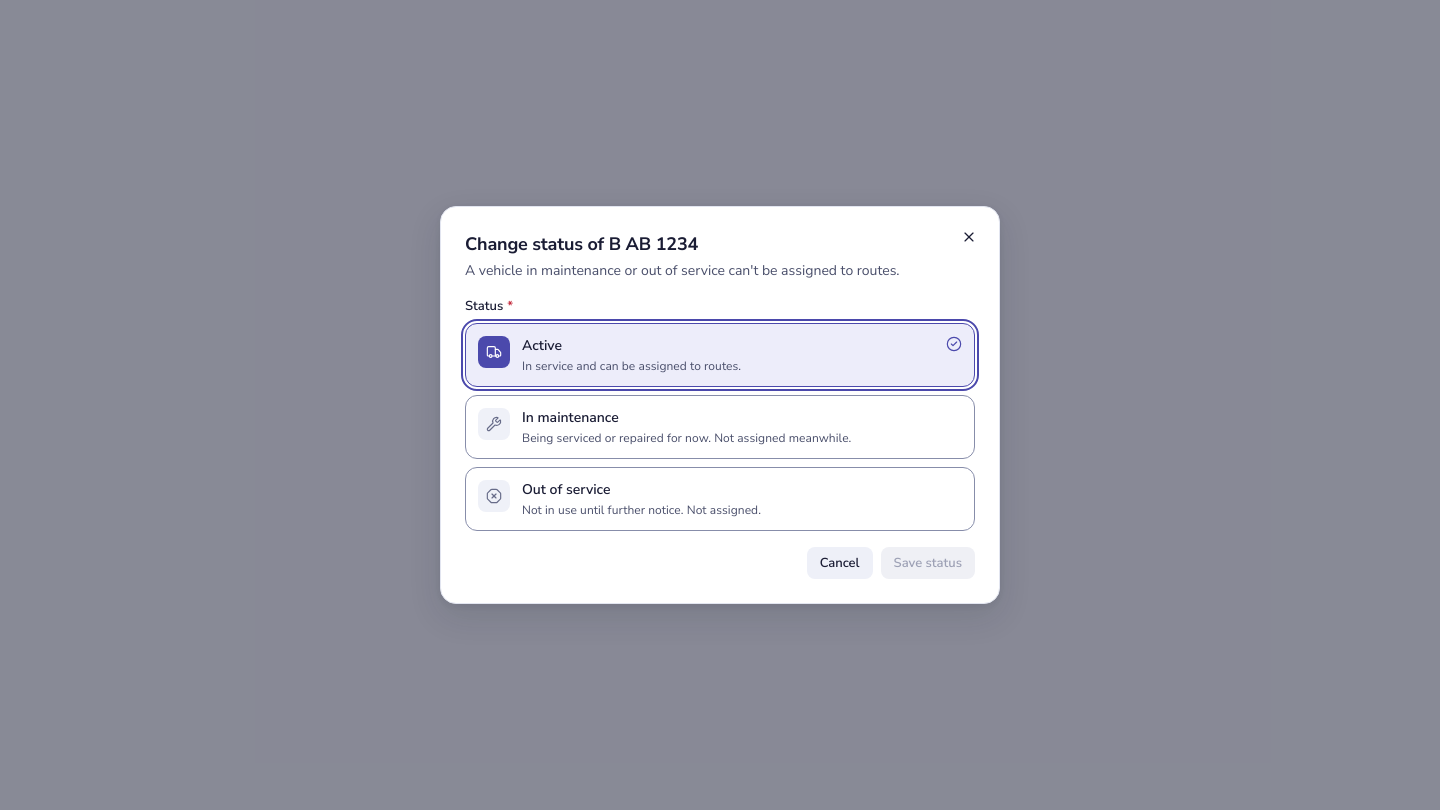
Test: VehicleStatusDialog › refuses out_of_service without a reason, and sends nothing
Click the radio button labelled "Out of service" at (720, 499), box x1=465 y1=467 x2=975 y2=531
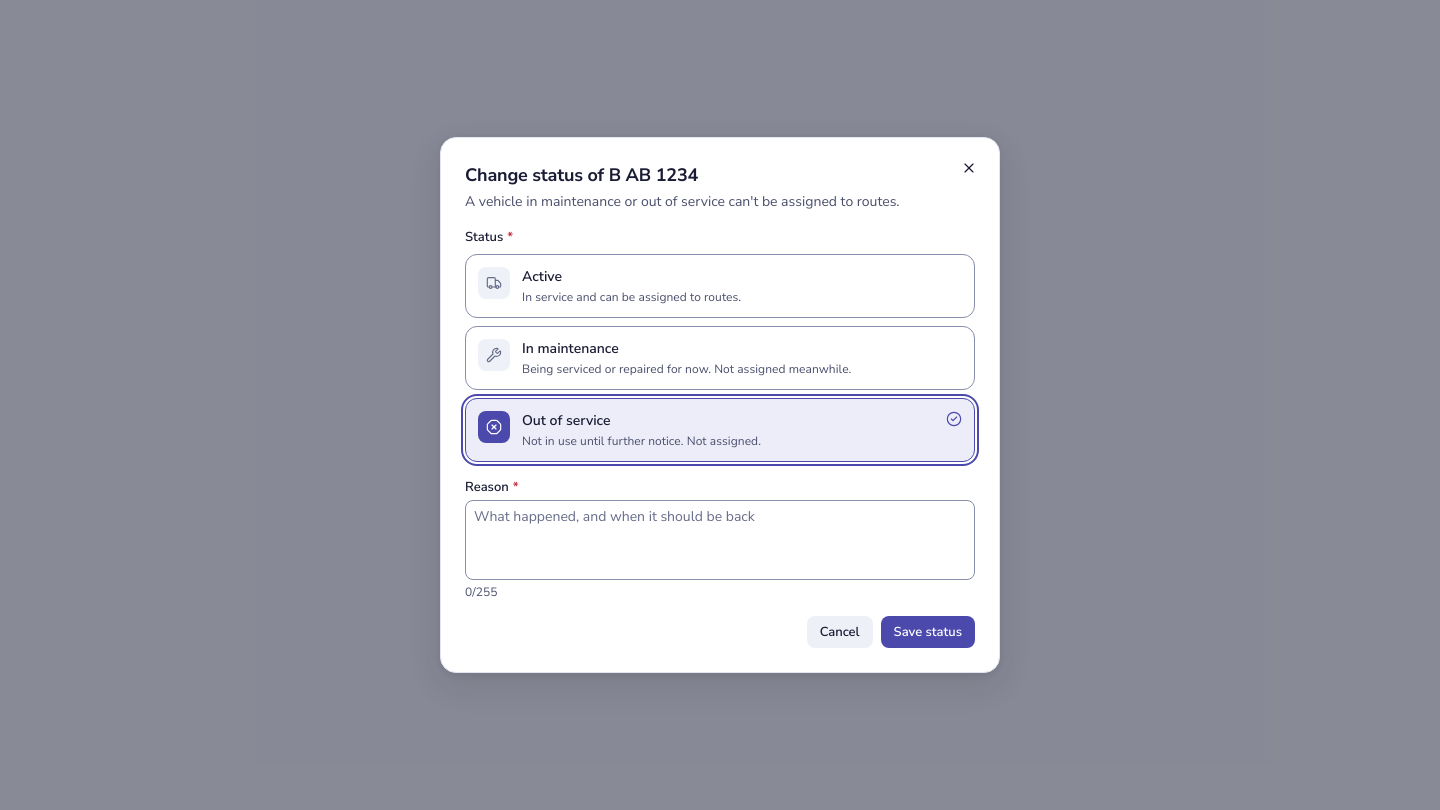
Click the button "Save status" at (928, 632), box x1=881 y1=616 x2=975 y2=648
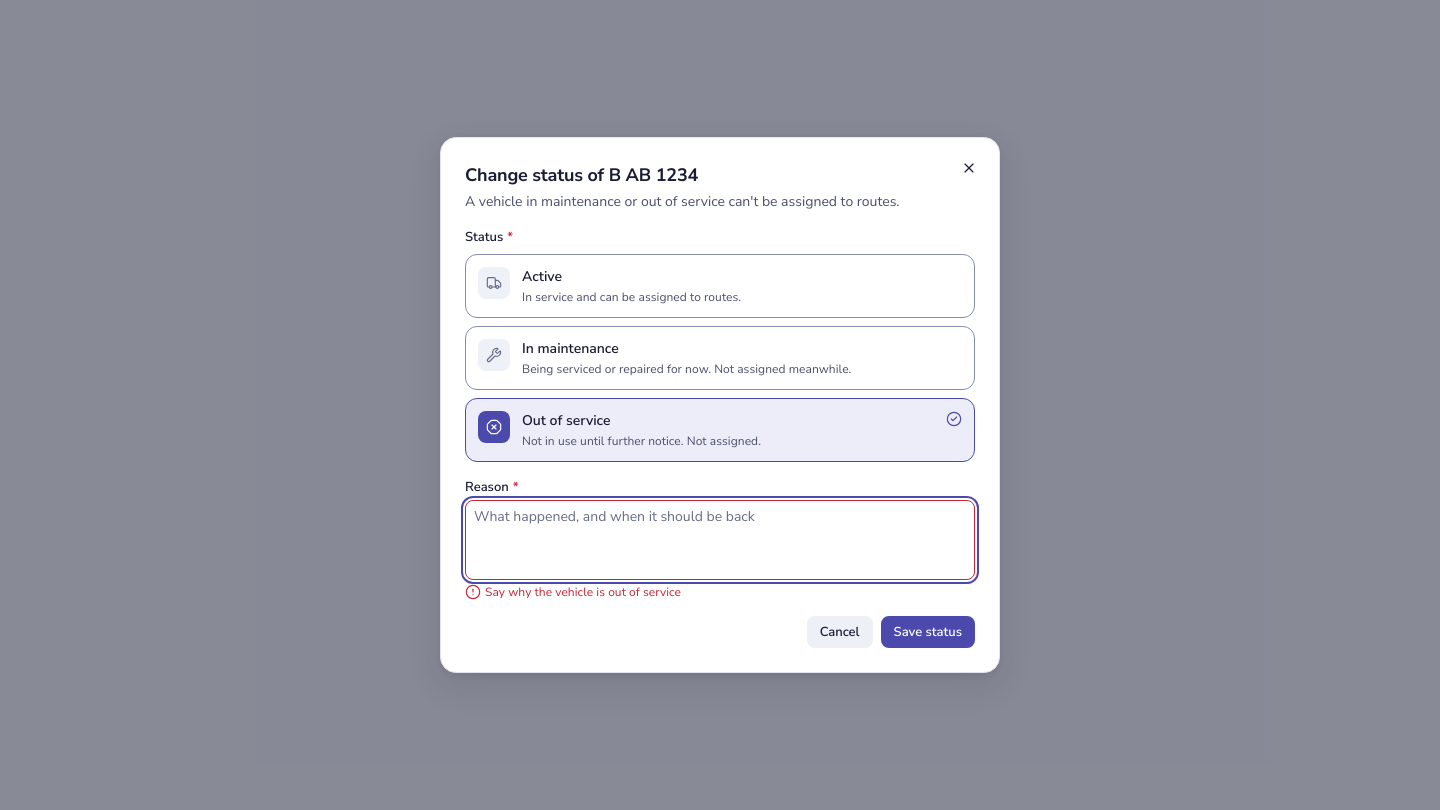
Expected: the text "Say why the vehicle is out of service" is shown, x1=465 y1=584 x2=681 y2=600
